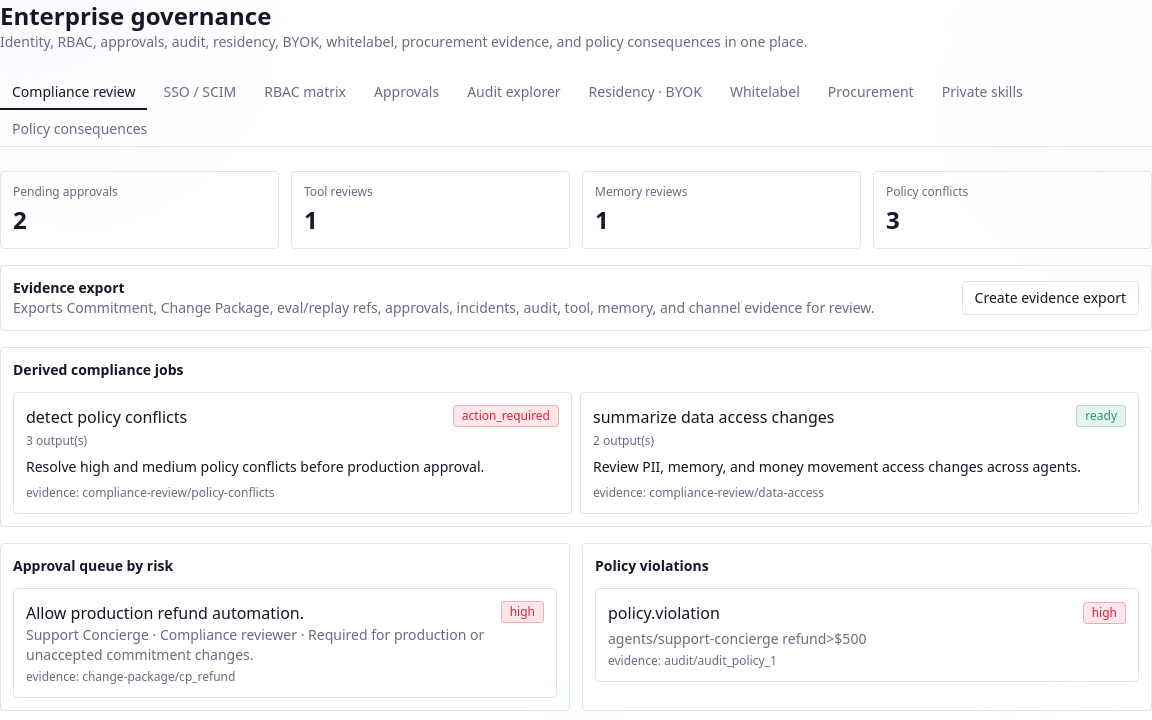
it: GovernOverview › renders SSO summaries on the SSO tab
The width and height of the screenshot is (1152, 720).
Click the tab with test id "govern-tab-sso" at (200, 93), box [152,76,248,110]
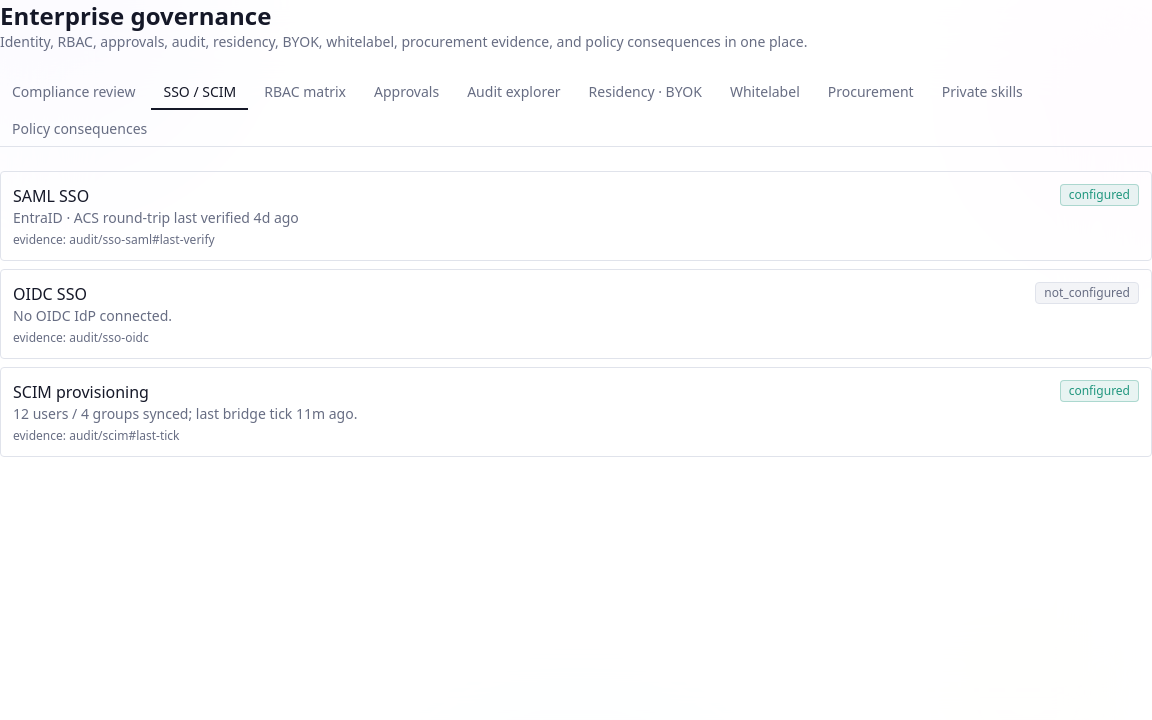
Result: the list item with test id "sso-row-saml" is shown at [0,171,1151,261]
Result: the list item with test id "sso-row-oidc" is shown at [0,269,1151,359]
Result: the list item with test id "sso-row-scim" is shown at [0,367,1151,457]
